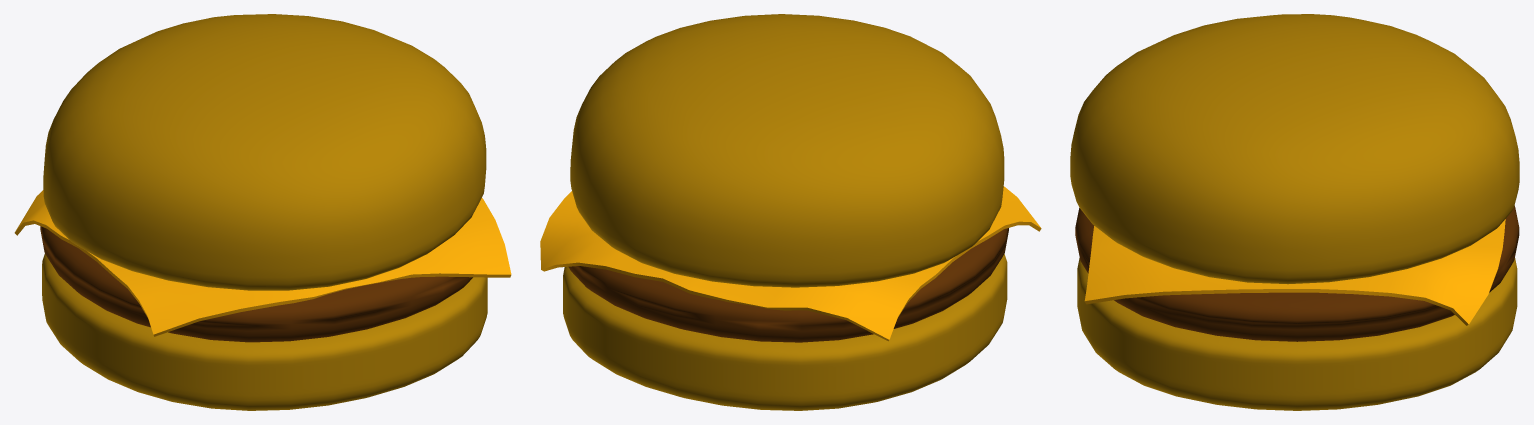
The model's file is hamburger.glb.
The picture shows the model from 3 angles, left to right: view 1: azimuth 30°, elevation 25°; view 2: azimuth 150°, elevation 25°; view 3: azimuth 270°, elevation 25°; orthographic projection.
Visible parts, largest first — view 1: Upper Bun, Lower Bun, Hamburger, Cheese; view 2: Upper Bun, Lower Bun, Hamburger, Cheese; view 3: Upper Bun, Lower Bun, Hamburger, Cheese.
Boxes of the visible parts, x1,y1,x2,y2 form: Upper Bun: (43,14,486,290); Lower Bun: (42,254,487,410); Hamburger: (40,226,472,342); Cheese: (14,190,511,336); Upper Bun: (570,14,1004,287); Lower Bun: (563,254,1007,410); Hamburger: (568,228,1008,342); Cheese: (540,186,1041,341); Upper Bun: (1070,14,1519,284); Lower Bun: (1077,258,1517,410); Hamburger: (1075,205,1519,341); Cheese: (1084,219,1505,325).
Bounding box in the file's own units: 0.8887 × 0.6172 × 0.8888.
